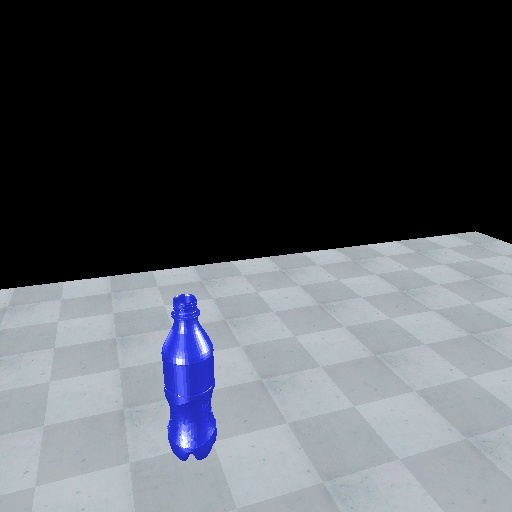bottle: (159, 292, 221, 463)
